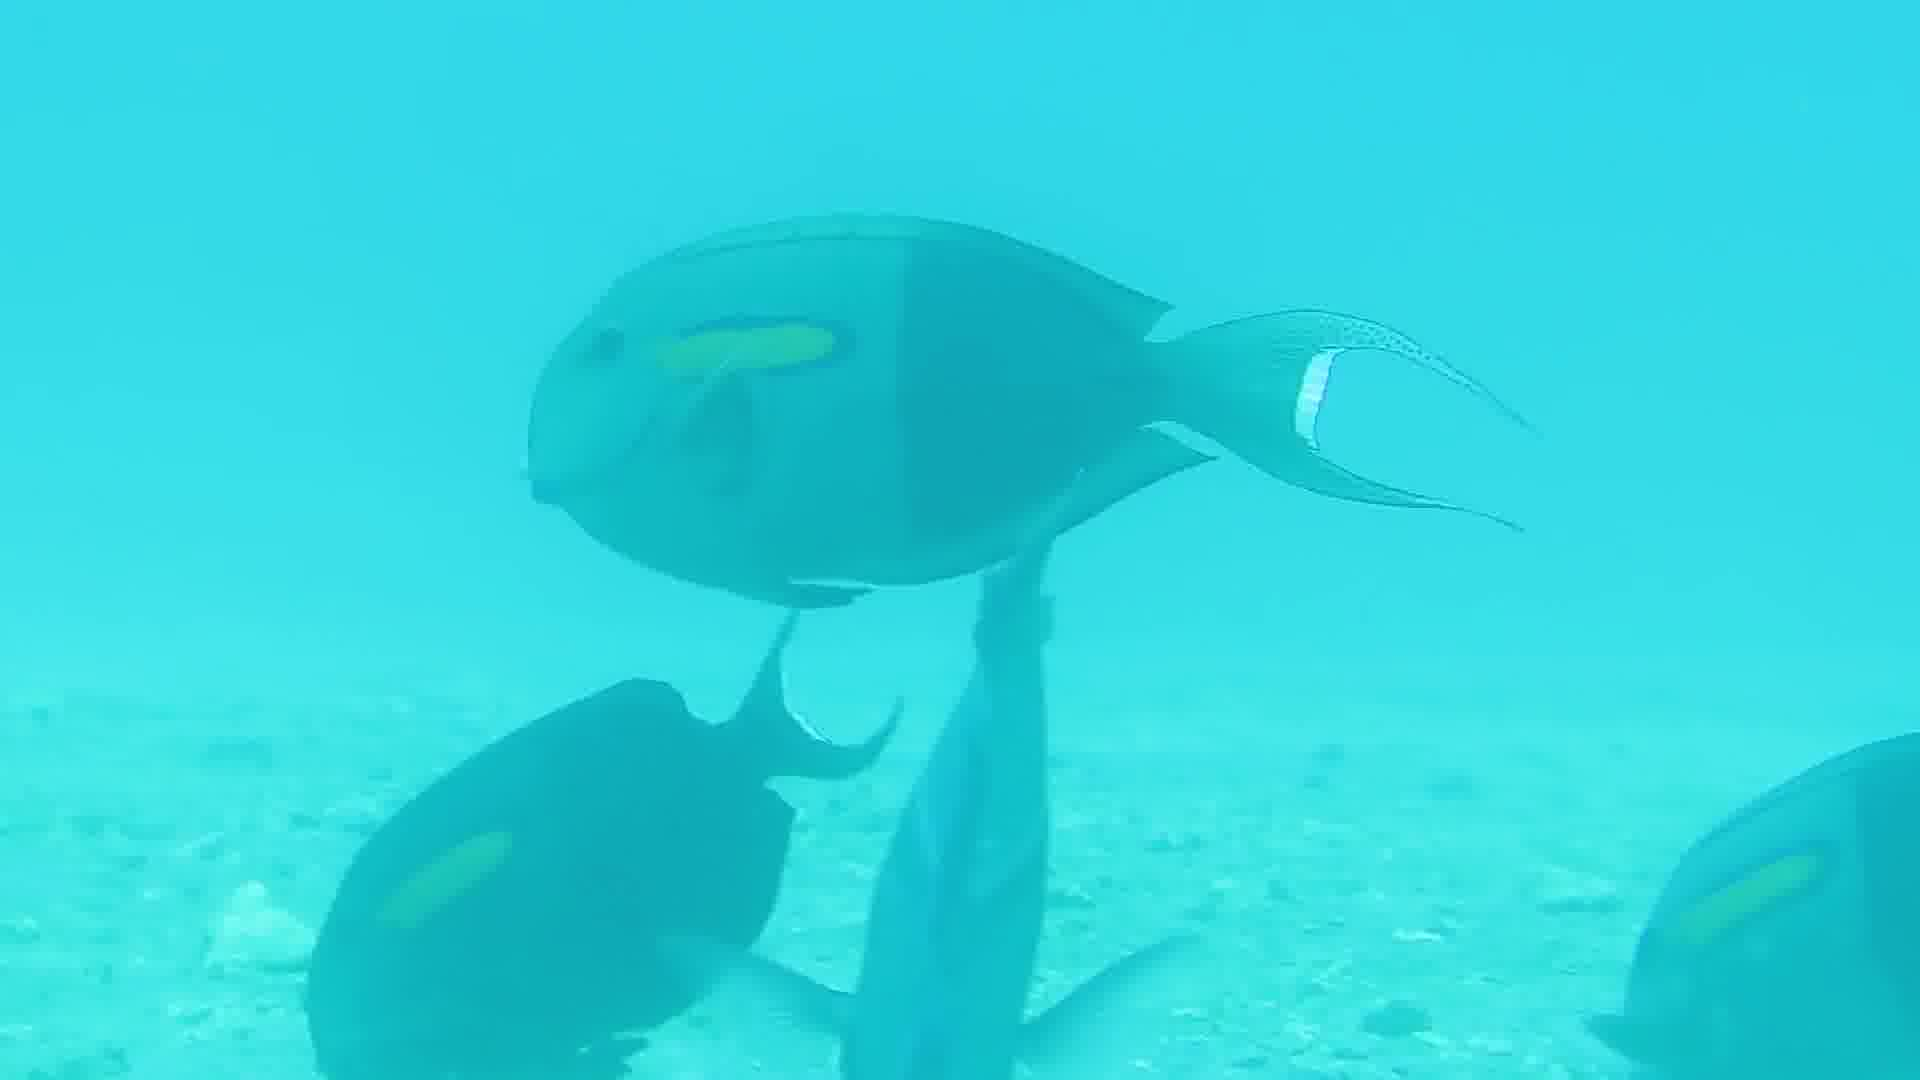Acanthurus olivaceus: (485, 80, 1532, 615), (280, 678, 825, 1080), (1600, 622, 1920, 1080), (828, 622, 1104, 1080)
